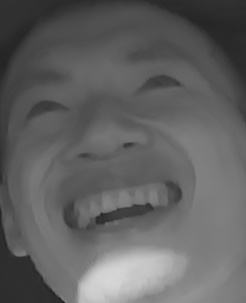eye: (132, 62, 181, 101), (21, 91, 74, 124)
mouth: (57, 169, 185, 241)
